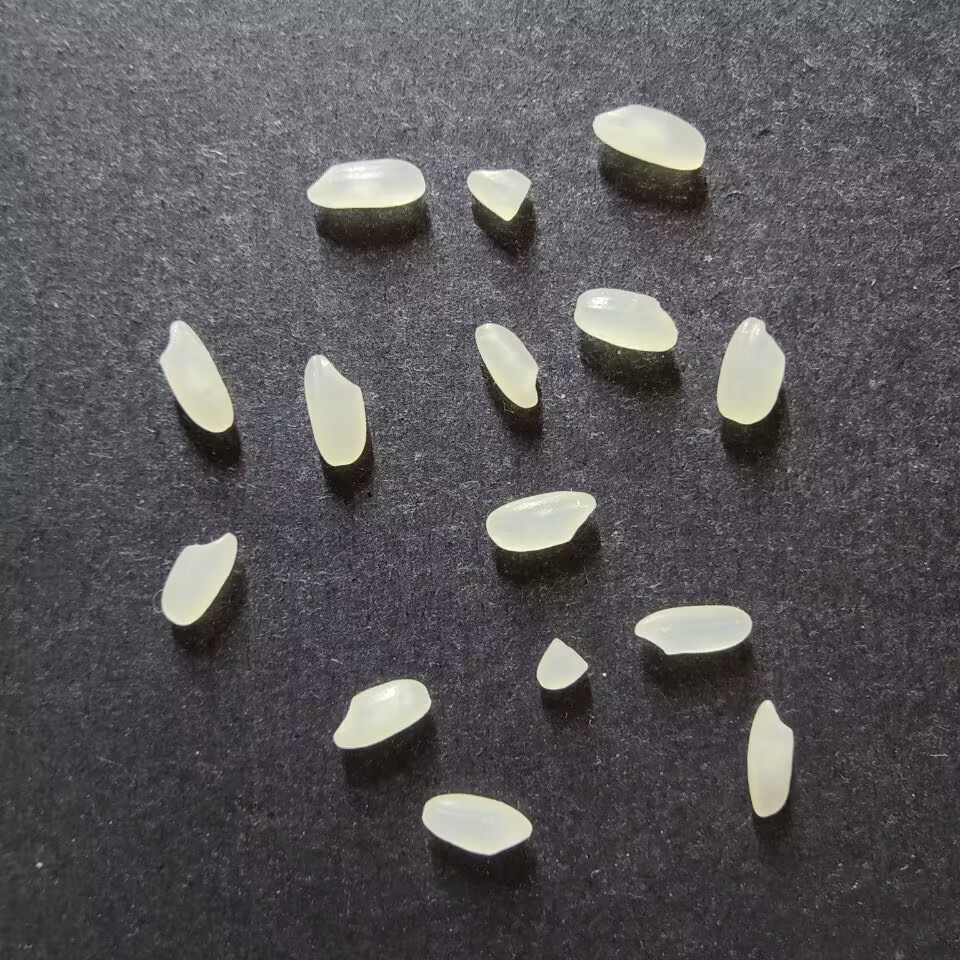broken: (466, 168, 531, 222), (535, 637, 588, 690)
rice: (158, 319, 233, 433), (715, 316, 786, 425), (592, 105, 706, 170), (160, 531, 238, 626), (303, 353, 366, 467), (332, 678, 431, 749), (421, 793, 532, 856), (485, 490, 597, 552), (573, 288, 678, 352), (306, 158, 425, 209), (633, 605, 751, 655), (473, 322, 539, 408), (746, 699, 793, 817)
